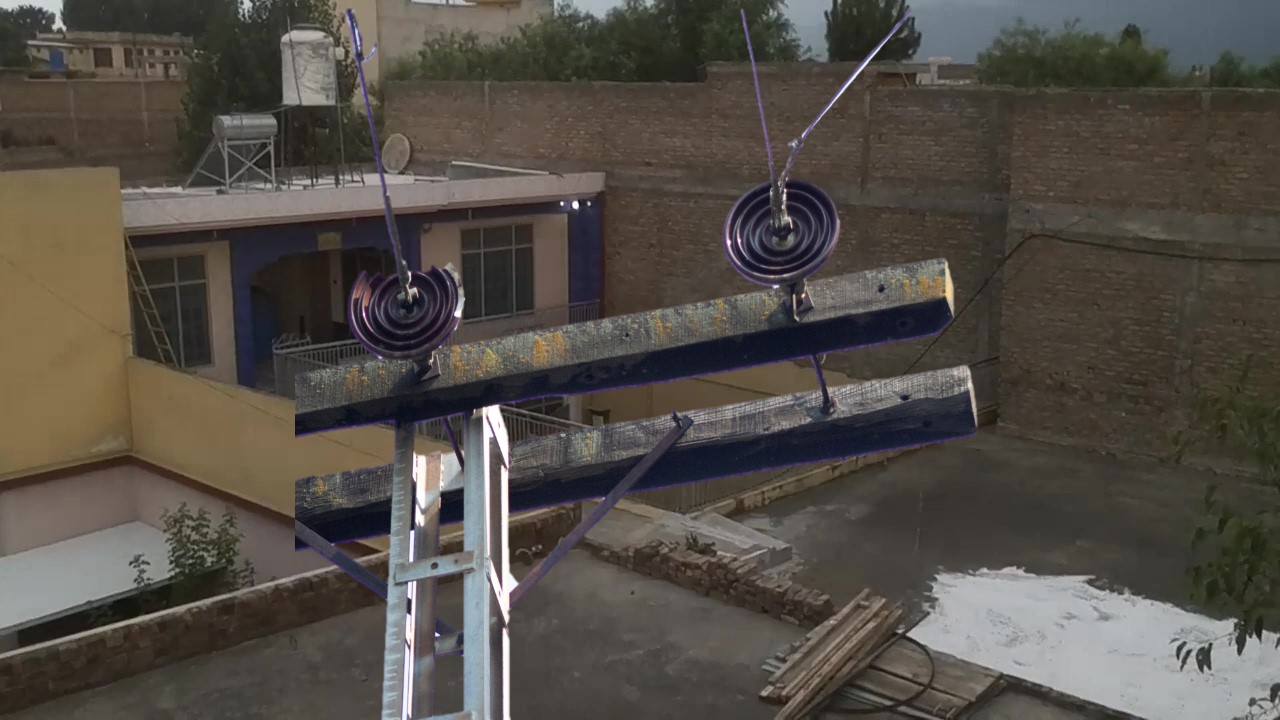defect_disc: (342, 257, 476, 358)
insulator_disc: (720, 177, 844, 286)
